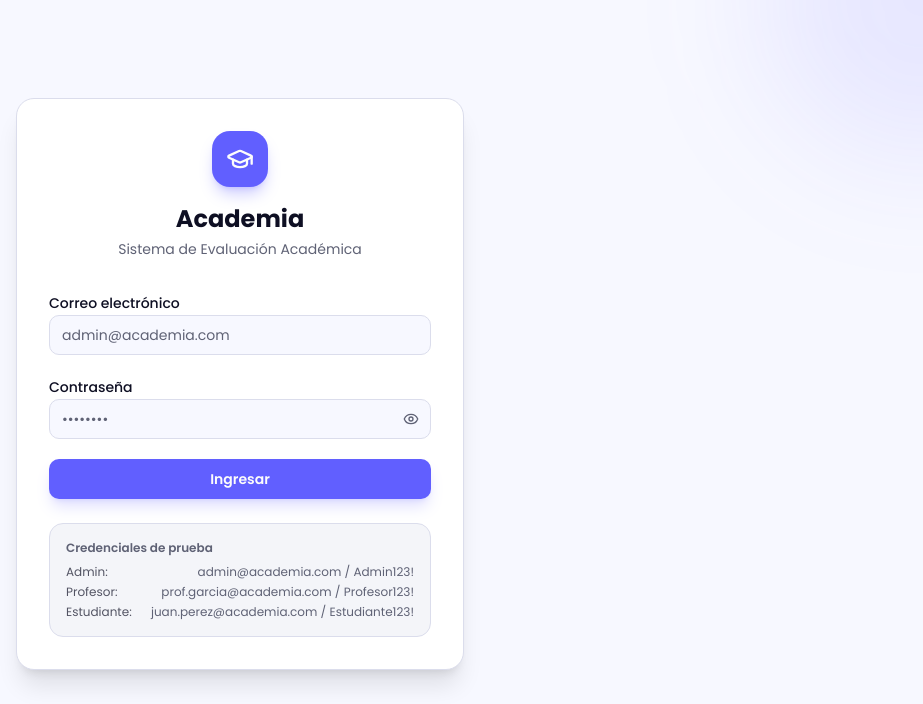
Scenario: LoginPage — accessibility › toggles aria-label when password visibility is toggled
This screenshot has width=923, height=704.
Click the button named "mostrar contraseña" at (411, 419), box [403,411,419,427]
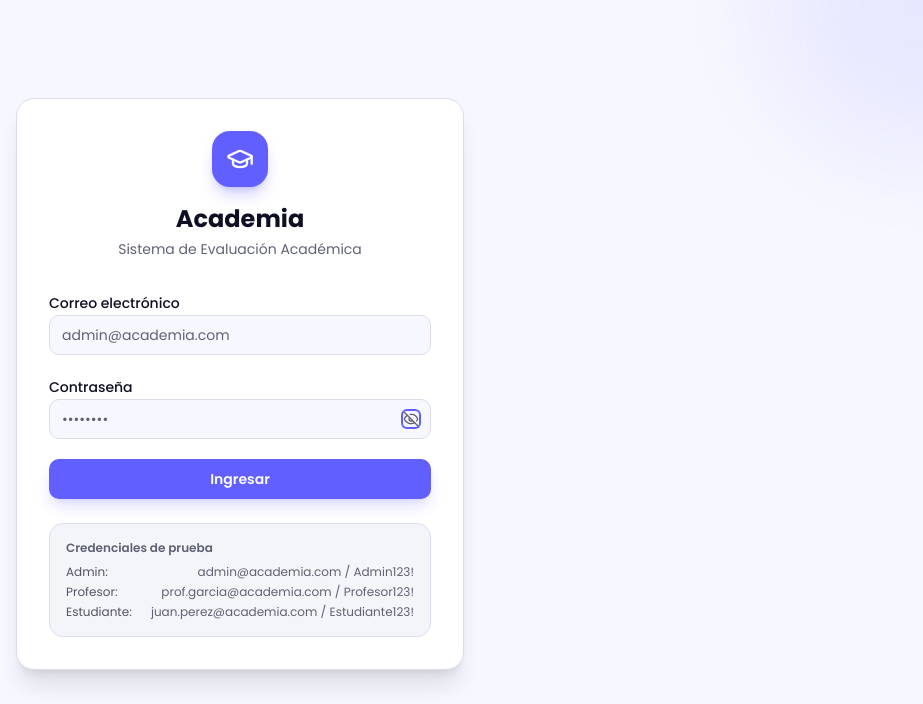
Expected: the button named "ocultar contraseña" is shown, [403,411,419,427]
